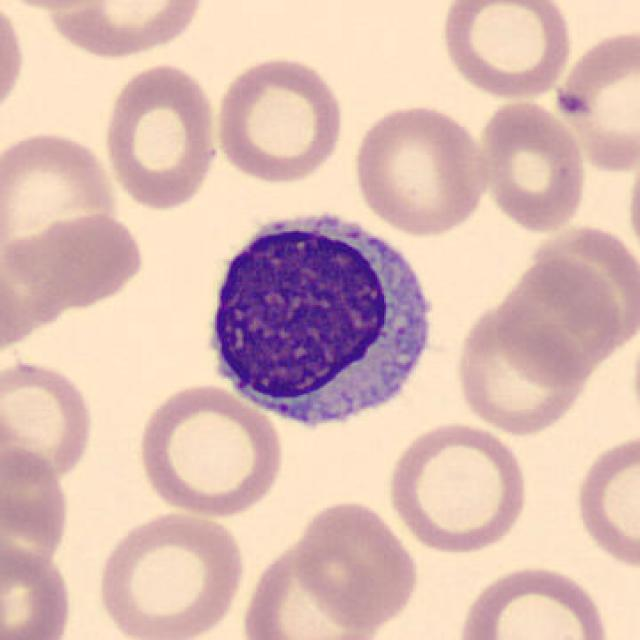Lymphocyte: (192, 197, 446, 439)
RBC: (133, 379, 288, 518), (382, 418, 532, 557), (92, 508, 249, 640), (348, 101, 494, 238), (452, 302, 590, 438), (100, 60, 222, 212), (212, 53, 346, 187), (290, 496, 421, 630), (491, 255, 623, 387), (238, 534, 402, 640), (0, 125, 121, 268), (475, 97, 590, 234), (528, 223, 640, 357), (7, 207, 148, 310), (435, 0, 574, 102), (551, 23, 638, 176), (451, 560, 615, 640), (0, 356, 98, 487), (34, 0, 208, 62), (570, 426, 640, 573), (0, 442, 73, 582), (0, 539, 74, 640), (0, 0, 28, 130), (624, 138, 640, 266), (0, 0, 117, 12)
